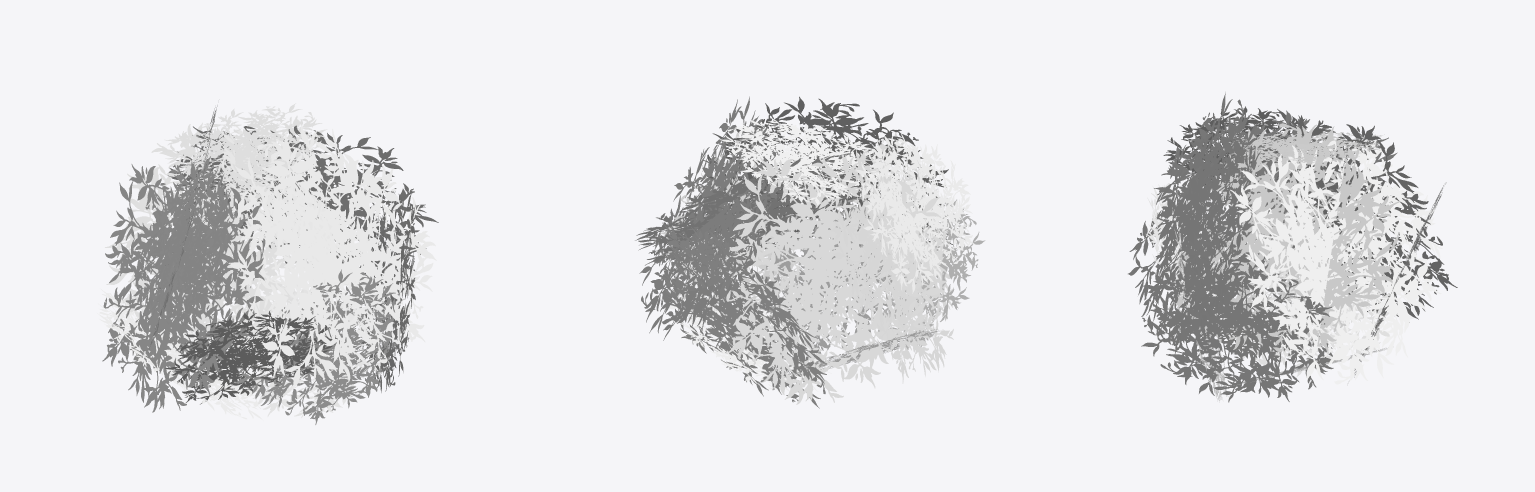
File: JWBush.fbx
The picture shows the model from 3 angles, left to right: view 1: azimuth 30°, elevation 25°; view 2: azimuth 150°, elevation 25°; view 3: azimuth 270°, elevation 25°; orthographic projection. The views are drawn at different scales.
Visible parts, largest first — view 1: Plane.002, Plane.003, Plane.005, Plane.010, Plane.008, Plane.006, Plane.007, Plane.001, Plane.012, Plane.013, Plane.009, Plane.011 (+1 smaller); view 2: Plane.004, Plane.001, Plane.008, Plane.003, Plane.005, Plane.006, Plane.002, Plane.011, Plane.007, Plane.009, Plane.010, Plane.013 (+1 smaller); view 3: Plane.001, Plane.011, Plane.009, Plane.002, Plane.004, Plane.003, Plane.006, Plane.012, Plane.005, Plane.007, Plane.010, Plane.008.
Boxes of the visible parts, x1=… form: Plane.002: x1=227, y1=124, x2=436, y2=389; Plane.003: x1=102, y1=156, x2=265, y2=412; Plane.005: x1=131, y1=164, x2=236, y2=331; Plane.010: x1=233, y1=269, x2=404, y2=424; Plane.008: x1=105, y1=122, x2=324, y2=358; Plane.006: x1=159, y1=103, x2=327, y2=204; Plane.007: x1=165, y1=311, x2=337, y2=404; Plane.001: x1=167, y1=125, x2=438, y2=273; Plane.012: x1=97, y1=288, x2=263, y2=420; Plane.013: x1=215, y1=269, x2=390, y2=417; Plane.009: x1=359, y1=191, x2=415, y2=392; Plane.011: x1=219, y1=119, x2=388, y2=342; Plane.004: x1=725, y1=149, x2=946, y2=404; Plane.001: x1=639, y1=96, x2=783, y2=340; Plane.008: x1=659, y1=222, x2=826, y2=408; Plane.003: x1=829, y1=129, x2=958, y2=383; Plane.005: x1=855, y1=132, x2=974, y2=293; Plane.006: x1=718, y1=117, x2=884, y2=205; Plane.002: x1=703, y1=96, x2=952, y2=246; Plane.011: x1=635, y1=153, x2=877, y2=265; Plane.007: x1=847, y1=197, x2=985, y2=349; Plane.009: x1=659, y1=127, x2=810, y2=327; Plane.010: x1=759, y1=190, x2=906, y2=358; Plane.013: x1=655, y1=289, x2=831, y2=391; Plane.001: x1=1230, y1=135, x2=1442, y2=384; Plane.011: x1=1164, y1=123, x2=1400, y2=353; Plane.009: x1=1141, y1=232, x2=1333, y2=402; Plane.002: x1=1128, y1=92, x2=1260, y2=356; Plane.004: x1=1247, y1=109, x2=1457, y2=322; Plane.003: x1=1154, y1=110, x2=1397, y2=290; Plane.006: x1=1223, y1=132, x2=1384, y2=163; Plane.012: x1=1227, y1=220, x2=1396, y2=377; Plane.005: x1=1163, y1=106, x2=1313, y2=196; Plane.007: x1=1146, y1=183, x2=1245, y2=318; Plane.010: x1=1174, y1=228, x2=1228, y2=402; Plane.008: x1=1354, y1=182, x2=1446, y2=377.
Size of the model in its own units: 286 by 250 by 276.
